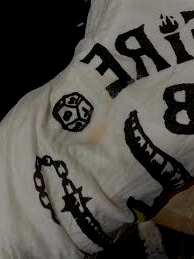mustard: (91, 122, 110, 149)
